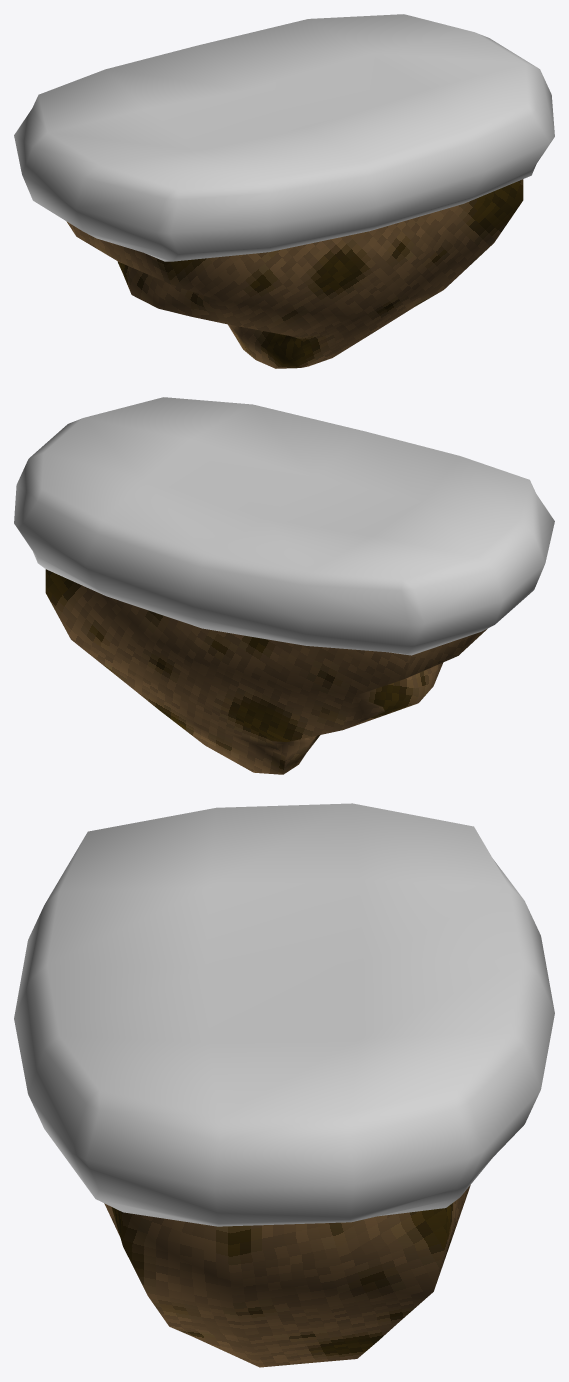
The model's file is Platform_Small02.FBX.
3 views of the same model, one above another, from view 1: azimuth 30°, elevation 25°; view 2: azimuth 150°, elevation 25°; view 3: azimuth 270°, elevation 25° (orthographic). The views are drawn at different scales.
Parts seen in each view (by area): view 1: Platform_Small02; view 2: Platform_Small02; view 3: Platform_Small02.
Part boxes in pixels (x1,y1,x2,y2): Platform_Small02: (14, 14, 554, 368); Platform_Small02: (14, 397, 554, 774); Platform_Small02: (14, 803, 554, 1367).
Size of the model in its own units: 1277 by 679 by 844.
